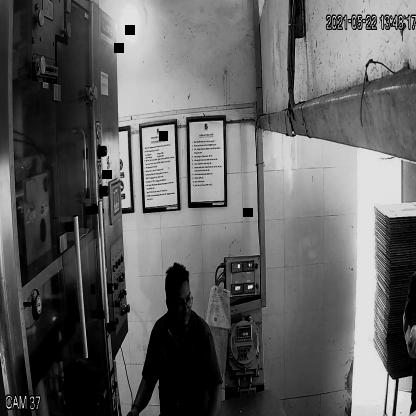goggles: (161, 294, 196, 315)
